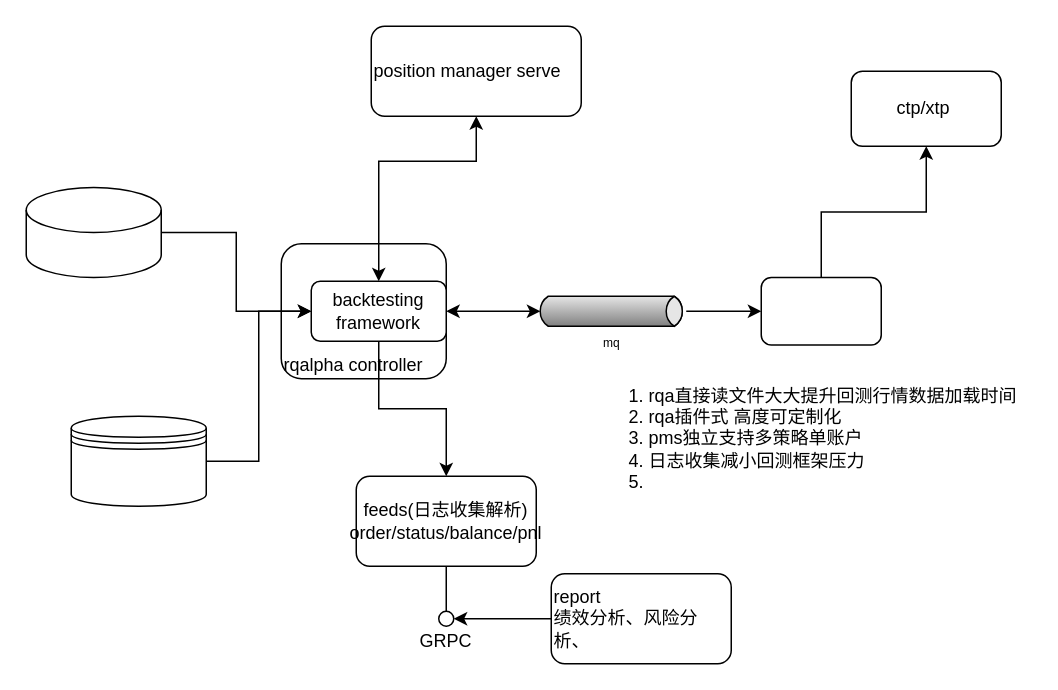
This 1058x690 diagram has some shape labels left out. Here are the shapes that lost their labels. From the top down, the centre of each, then its label:
At (x=93, y=232): "market redis".
At (x=820, y=310): "gateway （rate_limit）".
At (x=138, y=460): "local bundle (历史行情hdf5/csv)".
